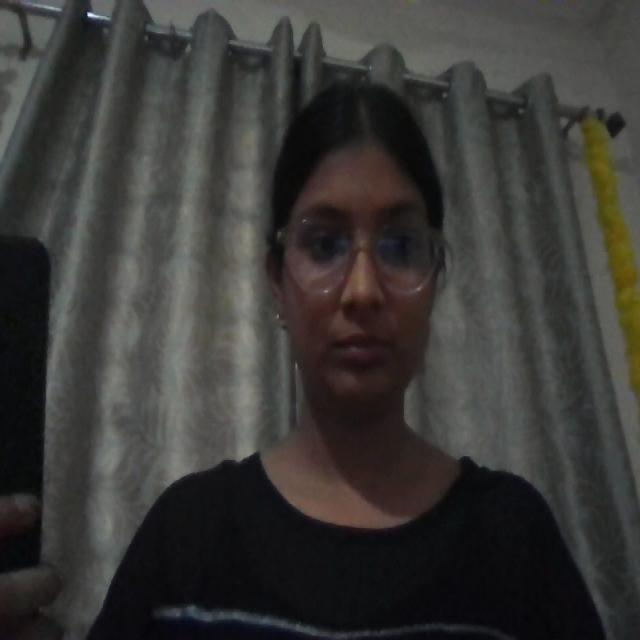phone: (0, 236, 49, 497), (0, 525, 40, 571)
